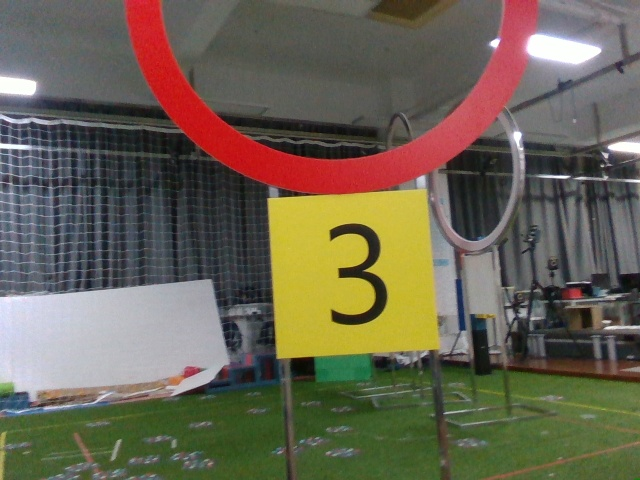target: (274, 198, 434, 349)
